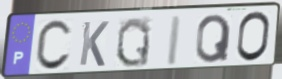C: (33, 18, 73, 74)
I: (164, 14, 184, 68)
K: (77, 20, 111, 68)
O: (234, 10, 272, 64)
Q: (114, 16, 153, 69), (195, 13, 233, 66)
